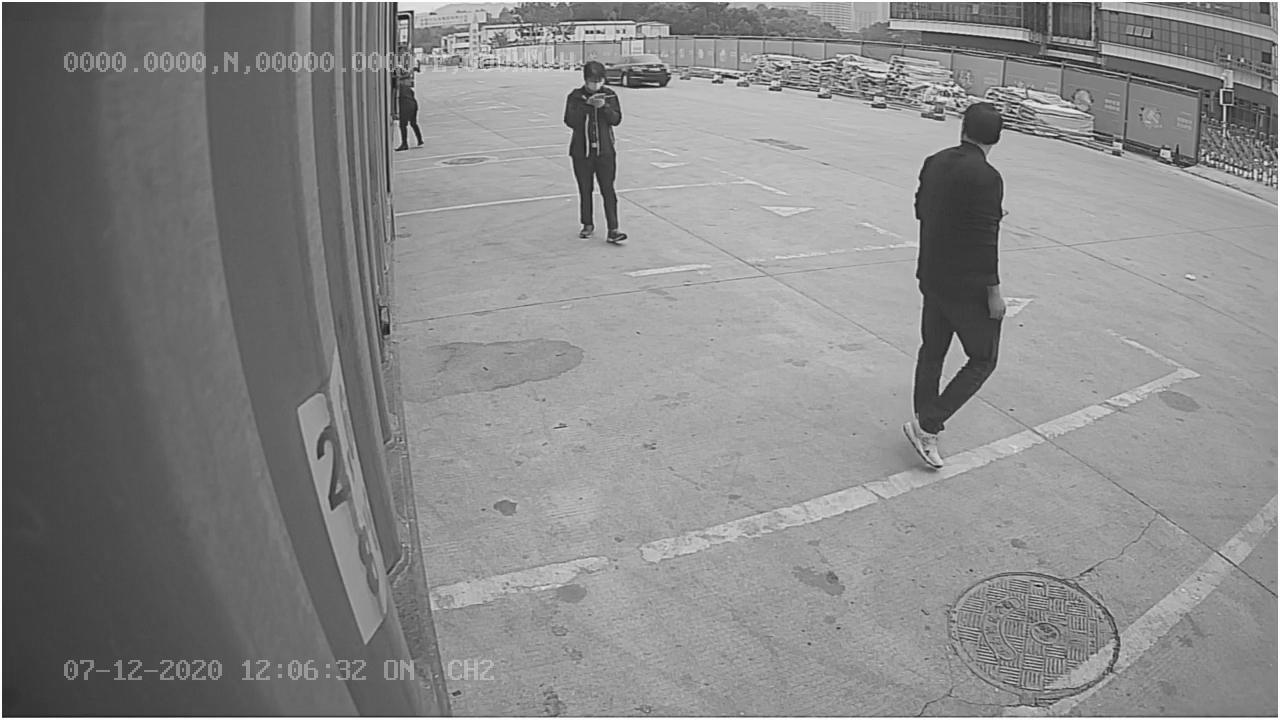person: (900, 97, 1009, 473)
